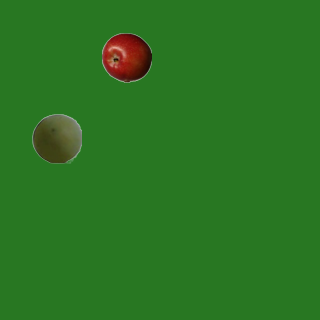Apple Braeburn: (101, 32, 151, 82)
Grape White 4: (31, 113, 81, 163)
